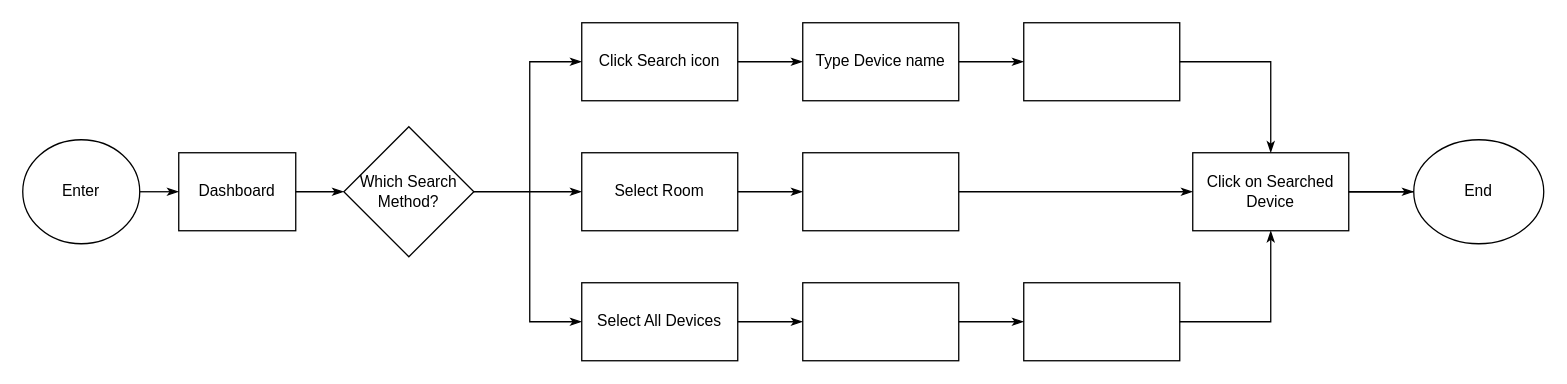
Image size: 1567x384. Some labels were removed from this diagram. The shapes that lost their labels are listed below. From the top down, each one's centre as x and y in pixels, then its label:
the point at 1101,61: Display Search Results
the point at 880,191: Display Devices in Room
the point at 880,321: Display Device Types
the point at 1101,321: Click on Device Type
